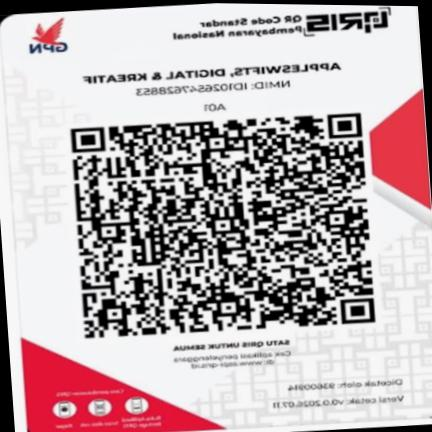Cara Pakai QRIS: (43, 383, 174, 432)
Cek Aplikasi Penyelenggara: (168, 348, 295, 372)
Dicetak Oleh: (282, 375, 408, 394)
Logo GPN: (17, 14, 78, 57)
Logo dan deskripsi QRIS: (160, 5, 404, 47)
Nama Merchant: (75, 58, 352, 87)
National Merchant ID: (126, 77, 298, 101)
QR Code: (62, 109, 382, 340)
Slogan: (167, 336, 294, 353)
Terminal ID: (188, 99, 236, 115)
Versi Cetak: (267, 392, 409, 412)
